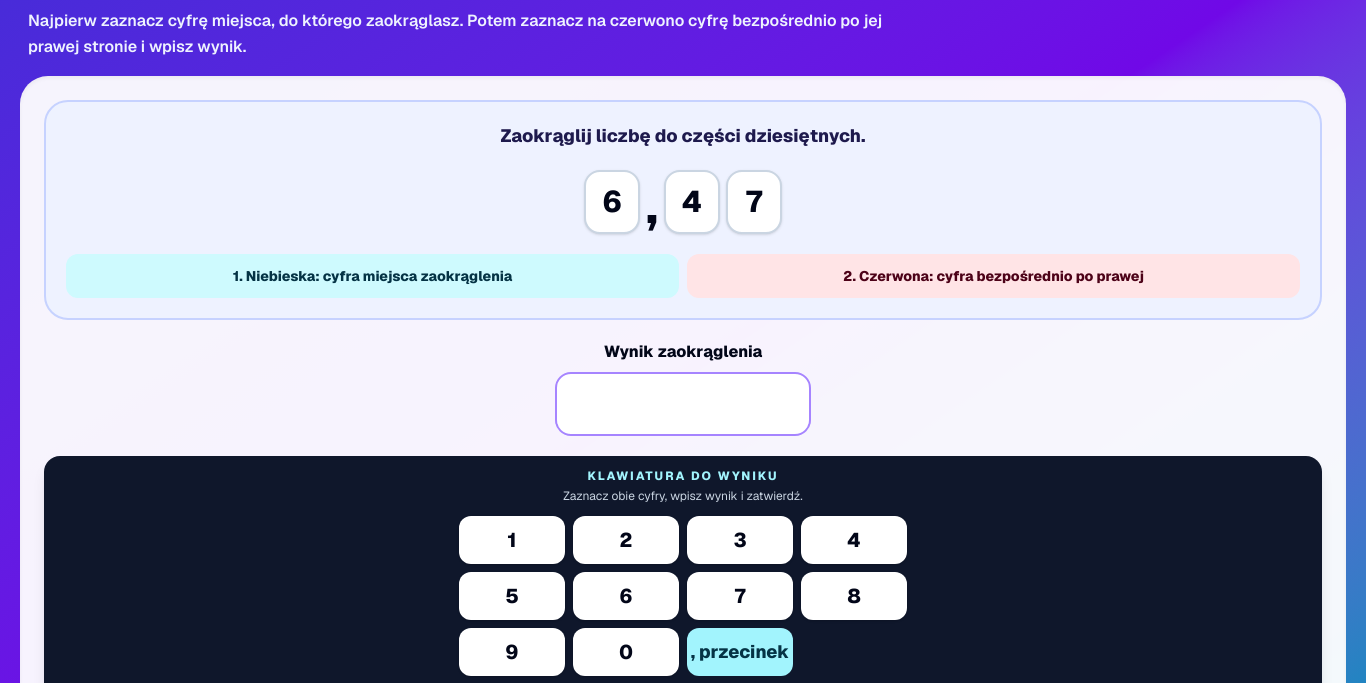
Test: RoundingLessonLab › po błędzie podaje wspierający komunikat i nie przyznaje punktu
Click the button named "Cyfra" at (612, 202), box [584,170,640,234]
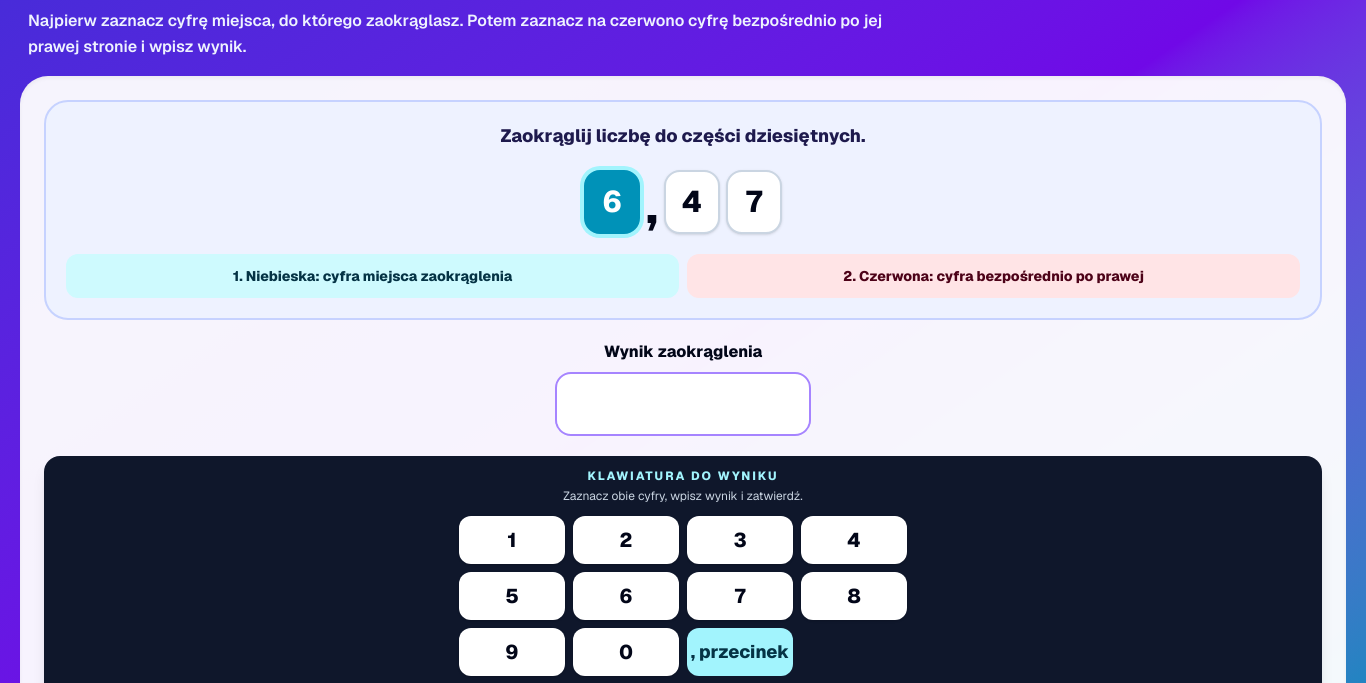
Click the button named "Cyfra" at (692, 202), box [664,170,720,234]
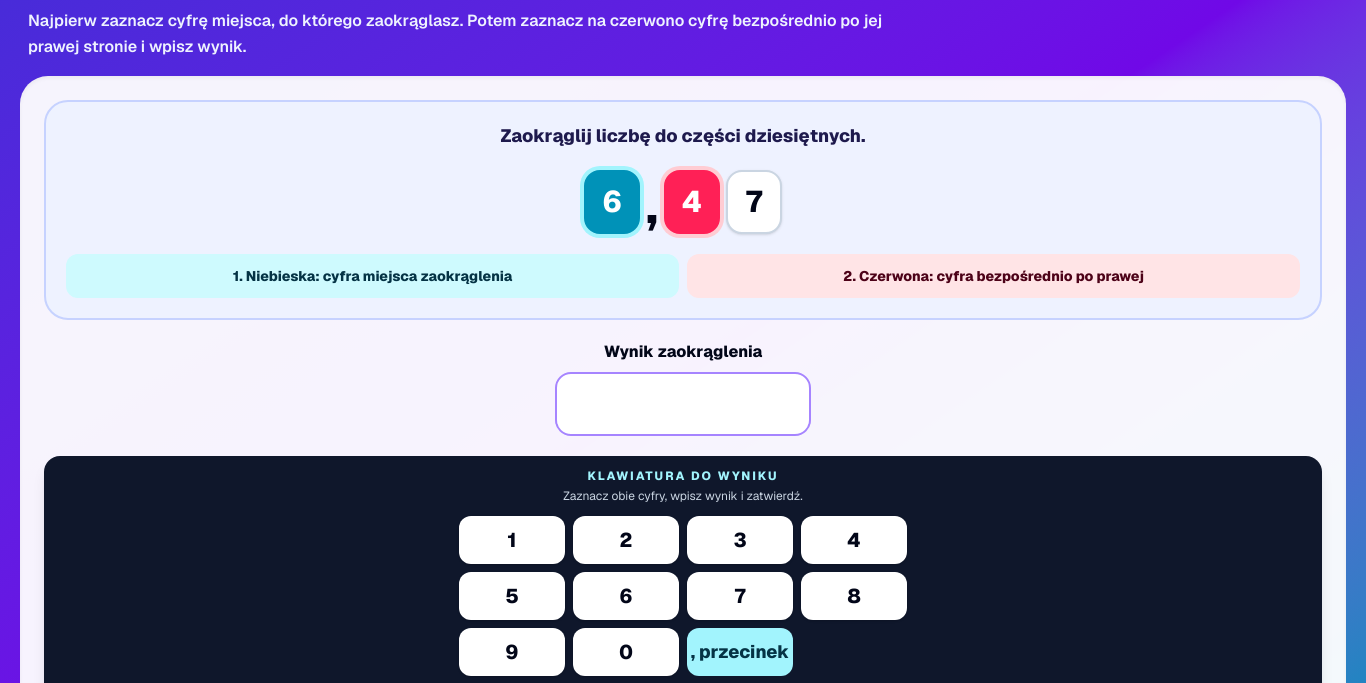
Click the button "1" at (512, 540), box [459,516,565,564]
(page scrolled)
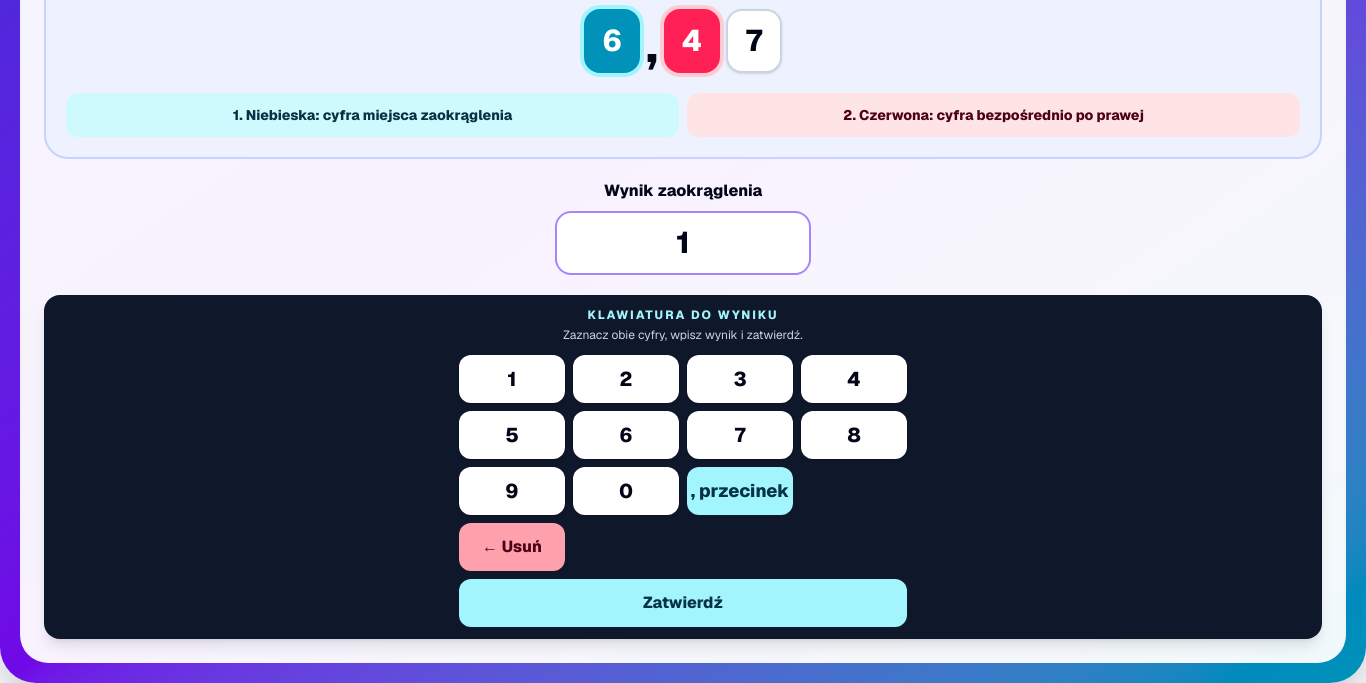
Click the button "Zatwierdź" at (683, 603), box [459,579,907,627]
(page scrolled)
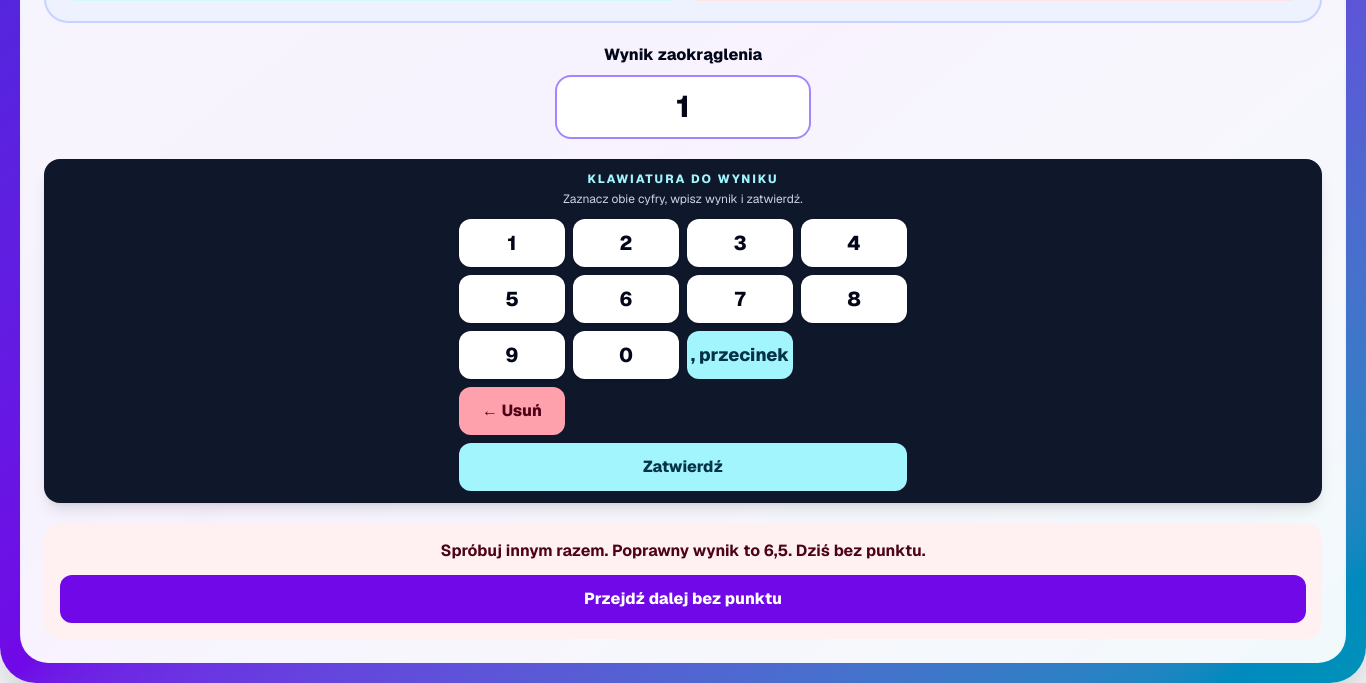
Now the text "Spróbuj innym razem. Poprawny wynik to 6,5. Dziś bez punktu." is shown, box [440,540,926,561]
Now the button "Przejdź dalej bez punktu" is shown, box [60,575,1306,623]
